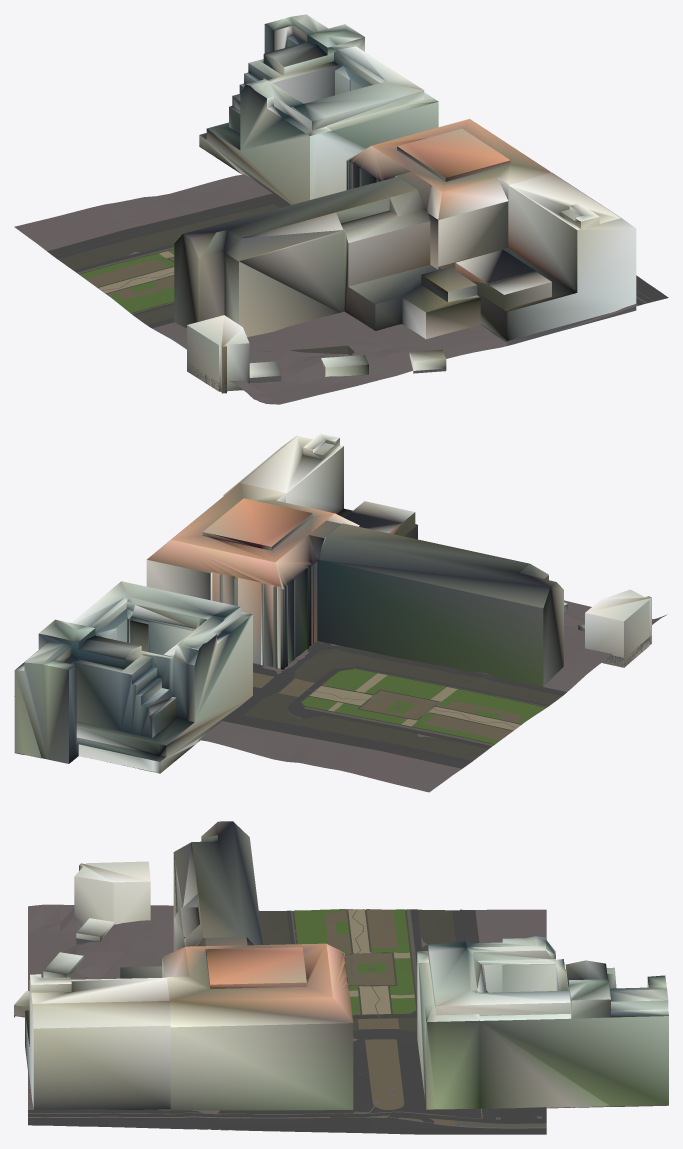
The picture shows the model from 3 angles, top to bottom: view 1: azimuth 30°, elevation 25°; view 2: azimuth 150°, elevation 25°; view 3: azimuth 270°, elevation 25°; orthographic projection. The views are drawn at different scales.
Visible parts, largest first — view 1: c_m02_m08, append:c_m02_m08; view 2: append:c_m02_m08, c_m02_m08; view 3: c_m02_m08, append:c_m02_m08.
Boxes of the visible parts, left/top/right/bottom form: c_m02_m08: left=55, top=119, right=668, bottom=404; append:c_m02_m08: left=14, top=14, right=438, bottom=333; append:c_m02_m08: left=14, top=581, right=576, bottom=792; c_m02_m08: left=146, top=433, right=667, bottom=718; c_m02_m08: left=14, top=821, right=408, bottom=1130; append:c_m02_m08: left=226, top=909, right=668, bottom=1134.
Bounding box in the file's own units: 131 × 32.29 × 162.
